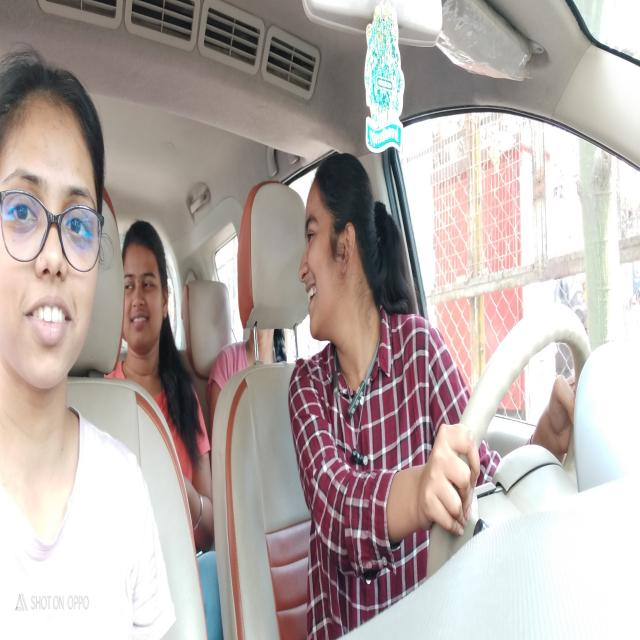LeftRight: (297, 149, 378, 345)
person: (1, 49, 108, 404), (122, 220, 170, 358)
talking: (300, 278, 324, 313)
